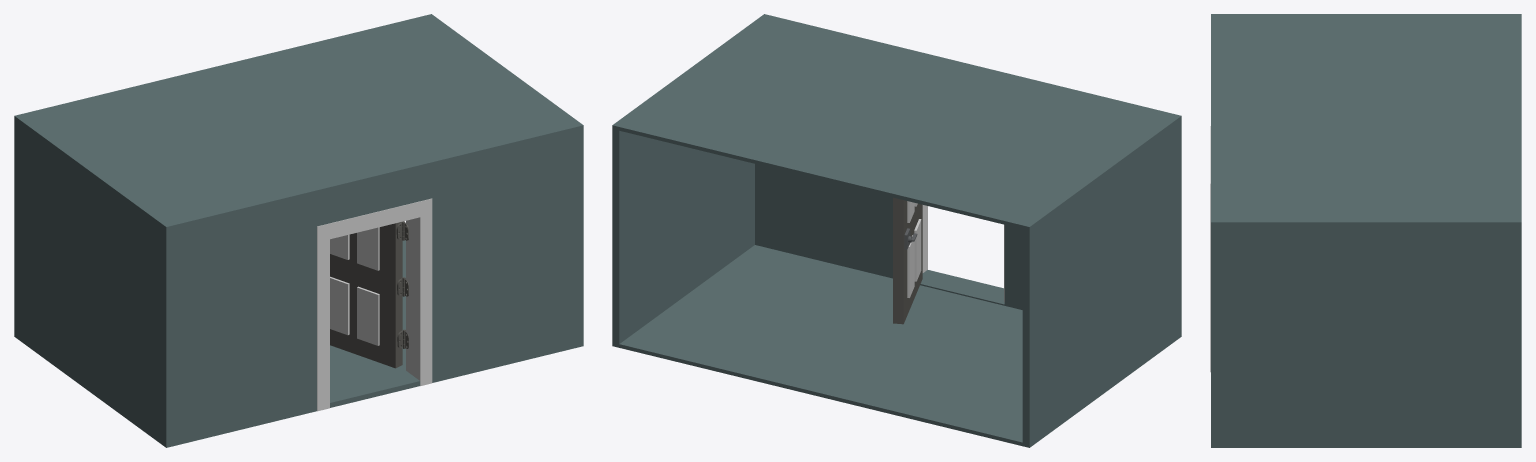
File: ArcGIS Maps - ServiceNow.glb
3 views of the same model, side by side, from view 1: azimuth 30°, elevation 25°; view 2: azimuth 150°, elevation 25°; view 3: azimuth 270°, elevation 25° (orthographic). The views are drawn at different scales.
Visible parts, largest first — view 1: Mesh_Mesh_head_geo.001_lambert2SG.001; view 2: Mesh_Mesh_head_geo.001_lambert2SG.001; view 3: Mesh_Mesh_head_geo.001_lambert2SG.001.
Part boxes in pixels (x1=…): Mesh_Mesh_head_geo.001_lambert2SG.001: x1=14, y1=14, x2=583, y2=447; Mesh_Mesh_head_geo.001_lambert2SG.001: x1=612, y1=14, x2=1181, y2=447; Mesh_Mesh_head_geo.001_lambert2SG.001: x1=1210, y1=14, x2=1521, y2=447.
Size of the model in its own units: 87 by 44 by 55.
